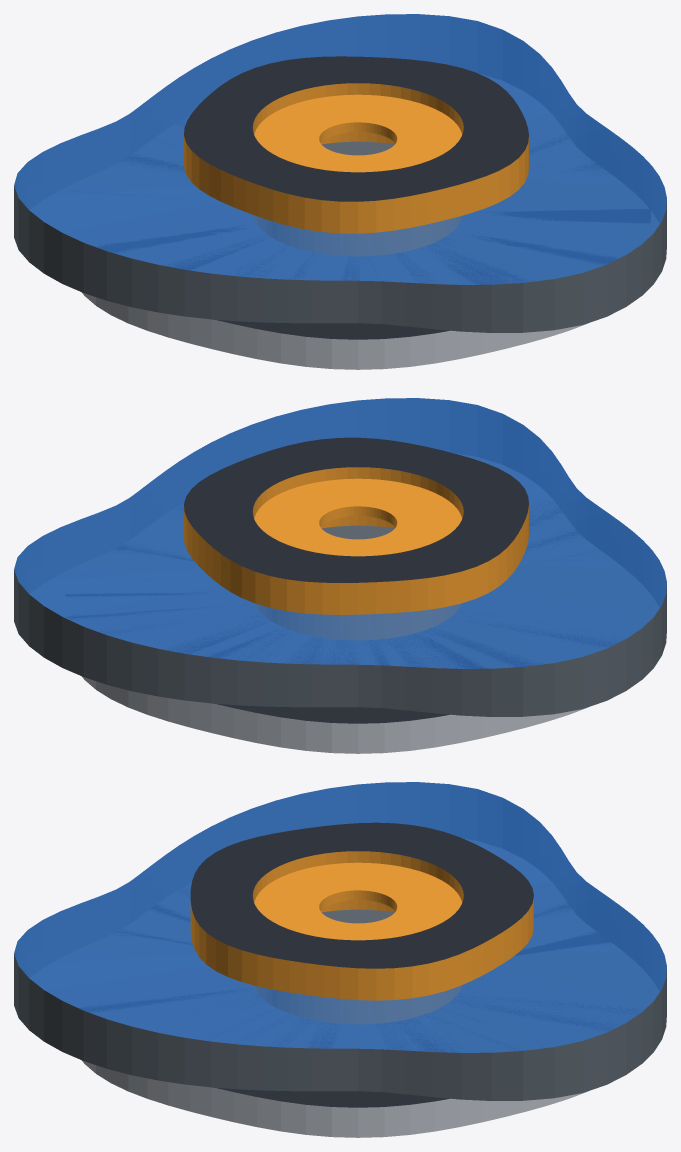
Rendered from assembly_phase2b_tip_ball_defense.glb.
3 renders of one model, top to bottom at view 1: azimuth 30°, elevation 25°; view 2: azimuth 150°, elevation 25°; view 3: azimuth 270°, elevation 25°, orthographic.
Visible parts, largest first — view 1: GEO_blade_storm_fang_BODY, GEO_core_solar_wolf_BODY, GEO_assist_heavy_BODY, GEO_core_solar_wolf_NSS_V1_COLLAR, GEO_blade_storm_fang_NSS_V1_COLLAR; view 2: GEO_blade_storm_fang_BODY, GEO_core_solar_wolf_BODY, GEO_assist_heavy_BODY, GEO_core_solar_wolf_NSS_V1_COLLAR, GEO_blade_storm_fang_NSS_V1_COLLAR; view 3: GEO_blade_storm_fang_BODY, GEO_core_solar_wolf_BODY, GEO_assist_heavy_BODY, GEO_core_solar_wolf_NSS_V1_COLLAR, GEO_blade_storm_fang_NSS_V1_COLLAR.
Boxes of the visible parts, x1,y1,x2,y2 form: GEO_blade_storm_fang_BODY: (14, 14, 666, 332); GEO_core_solar_wolf_BODY: (184, 56, 528, 233); GEO_assist_heavy_BODY: (81, 122, 650, 369); GEO_core_solar_wolf_NSS_V1_COLLAR: (254, 94, 462, 172); GEO_blade_storm_fang_NSS_V1_COLLAR: (321, 141, 394, 155); GEO_blade_storm_fang_BODY: (14, 398, 666, 716); GEO_core_solar_wolf_BODY: (184, 437, 528, 614); GEO_assist_heavy_BODY: (65, 507, 615, 753); GEO_core_solar_wolf_NSS_V1_COLLAR: (254, 478, 462, 556); GEO_blade_storm_fang_NSS_V1_COLLAR: (321, 525, 394, 539); GEO_blade_storm_fang_BODY: (14, 782, 666, 1100); GEO_core_solar_wolf_BODY: (190, 822, 533, 1000); GEO_assist_heavy_BODY: (79, 890, 635, 1137); GEO_core_solar_wolf_NSS_V1_COLLAR: (254, 862, 462, 940); GEO_blade_storm_fang_NSS_V1_COLLAR: (321, 909, 394, 923).
Bounding box in the file's own units: 0.0664 × 0.0251 × 0.0669.
